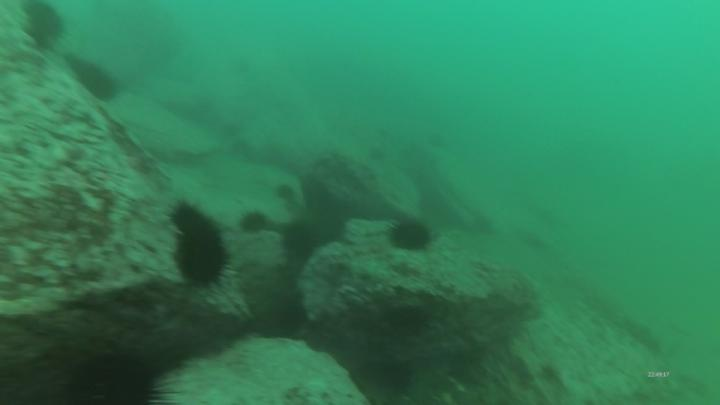echinus: (64, 348, 160, 405), (175, 231, 237, 289), (166, 197, 219, 239), (73, 60, 121, 103), (18, 1, 67, 43), (384, 214, 434, 255), (377, 356, 417, 402), (385, 300, 431, 338), (282, 216, 320, 260), (234, 209, 275, 237), (272, 180, 297, 203), (364, 144, 387, 166)
